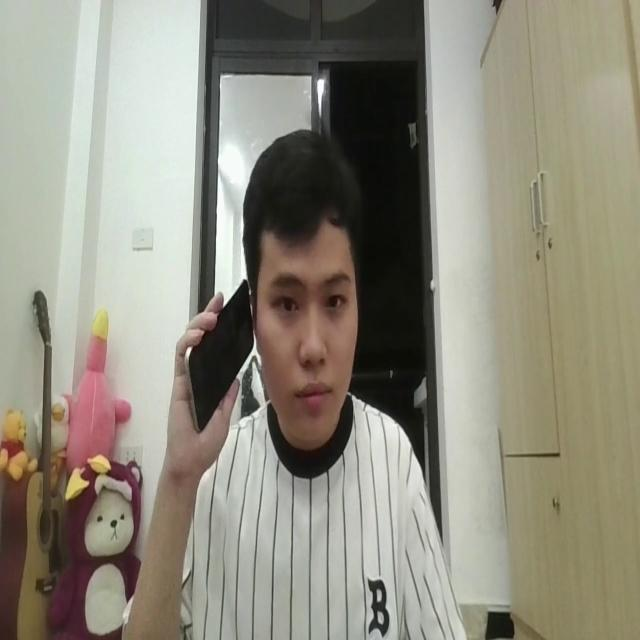phone: (178, 274, 254, 433)
student: (117, 123, 470, 640)
